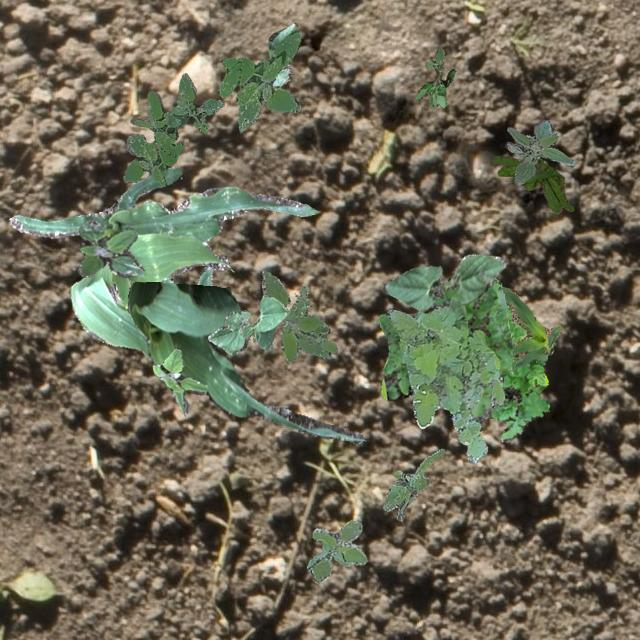crop: (9, 165, 317, 358), (125, 280, 362, 442), (382, 254, 506, 312), (206, 294, 288, 354), (501, 286, 561, 368), (268, 21, 296, 86)
weed: (376, 278, 514, 421), (386, 296, 504, 462), (122, 72, 222, 184), (488, 303, 548, 442), (218, 30, 300, 130), (260, 268, 336, 362), (160, 264, 248, 322), (492, 154, 572, 212), (382, 448, 444, 520), (506, 119, 574, 184), (76, 218, 144, 276), (306, 518, 366, 582), (152, 348, 208, 394), (412, 46, 454, 106)
